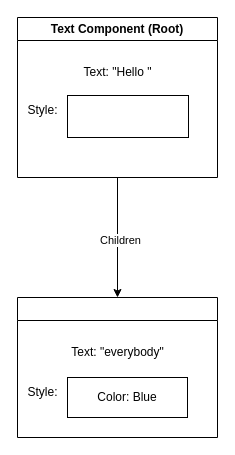
Some shapes in this 235 by 455 pixel diagram are drawn without their labels. Here are the shapes that lost their labels. From the top down, the box of each, then its label:
(66, 94, 188, 138): Color: Red Decoration: Bold
(16, 296, 218, 438): Text Component
